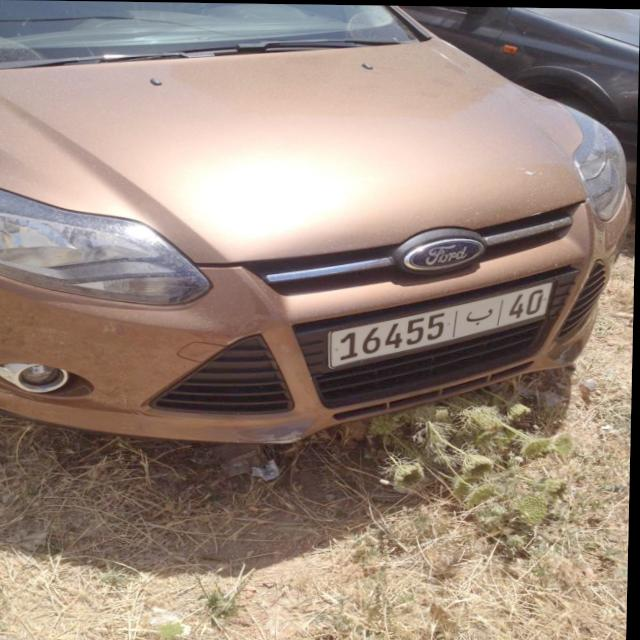License-Plate: (330, 281, 554, 366)
